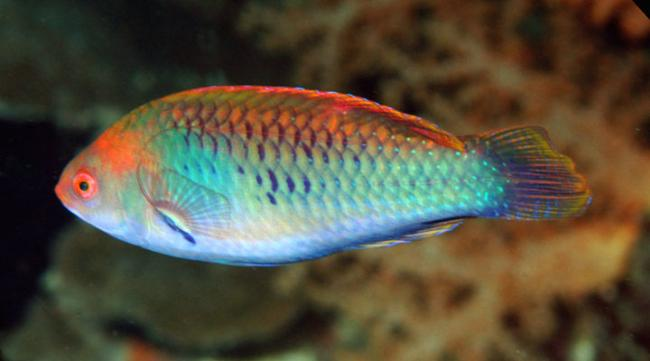fish: (55, 86, 593, 268)
